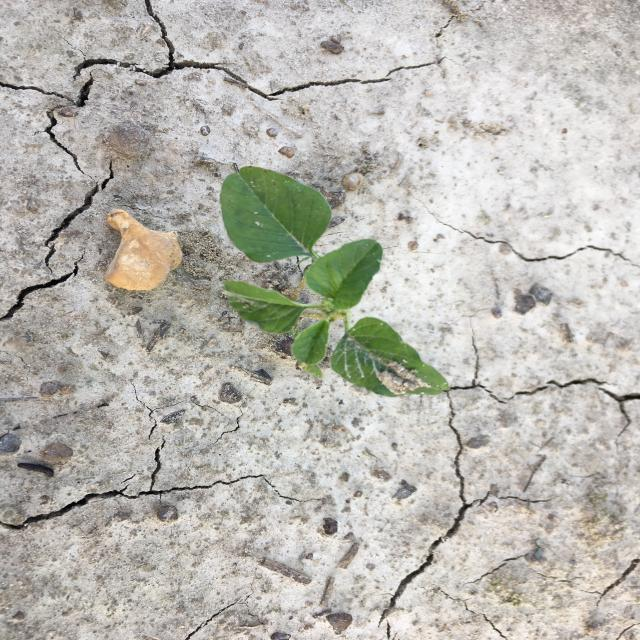PalmerAmaranth: (216, 165, 453, 399)
